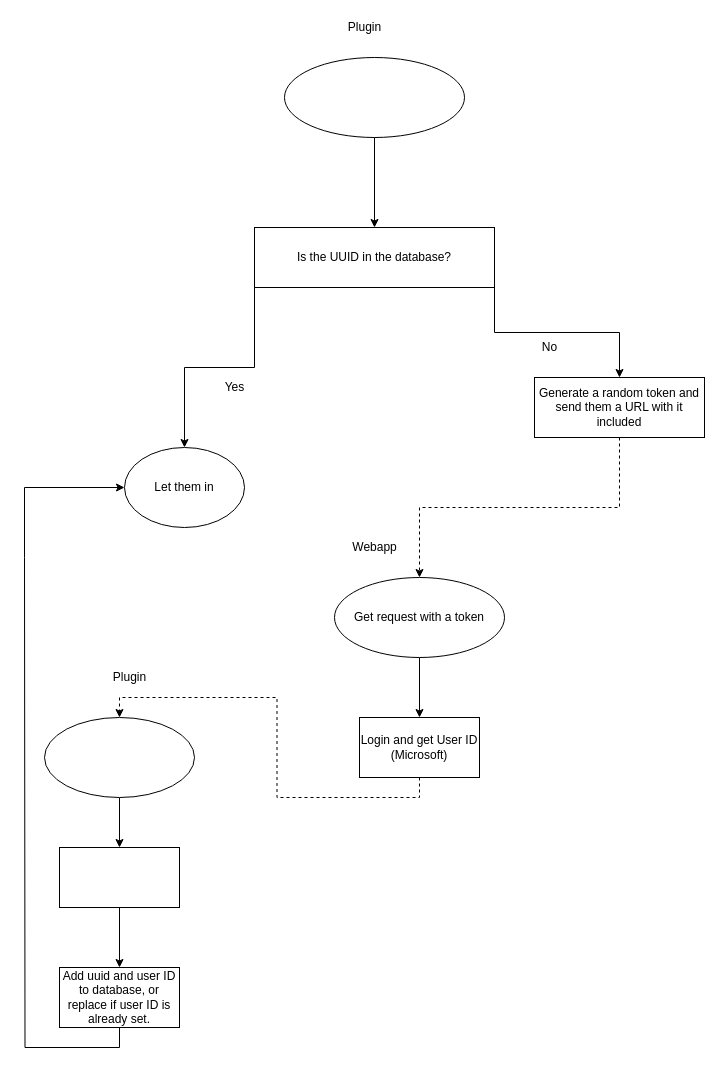
Some shapes in this 722 by 1066 pixel diagram are drawn without their labels. The centre of each missing label's shape, as x and y in pixels:
"Get uuid from token" goes at point (119, 877).
"Join Server" goes at point (374, 97).
"Receive token + user id from webapp" goes at point (119, 757).
